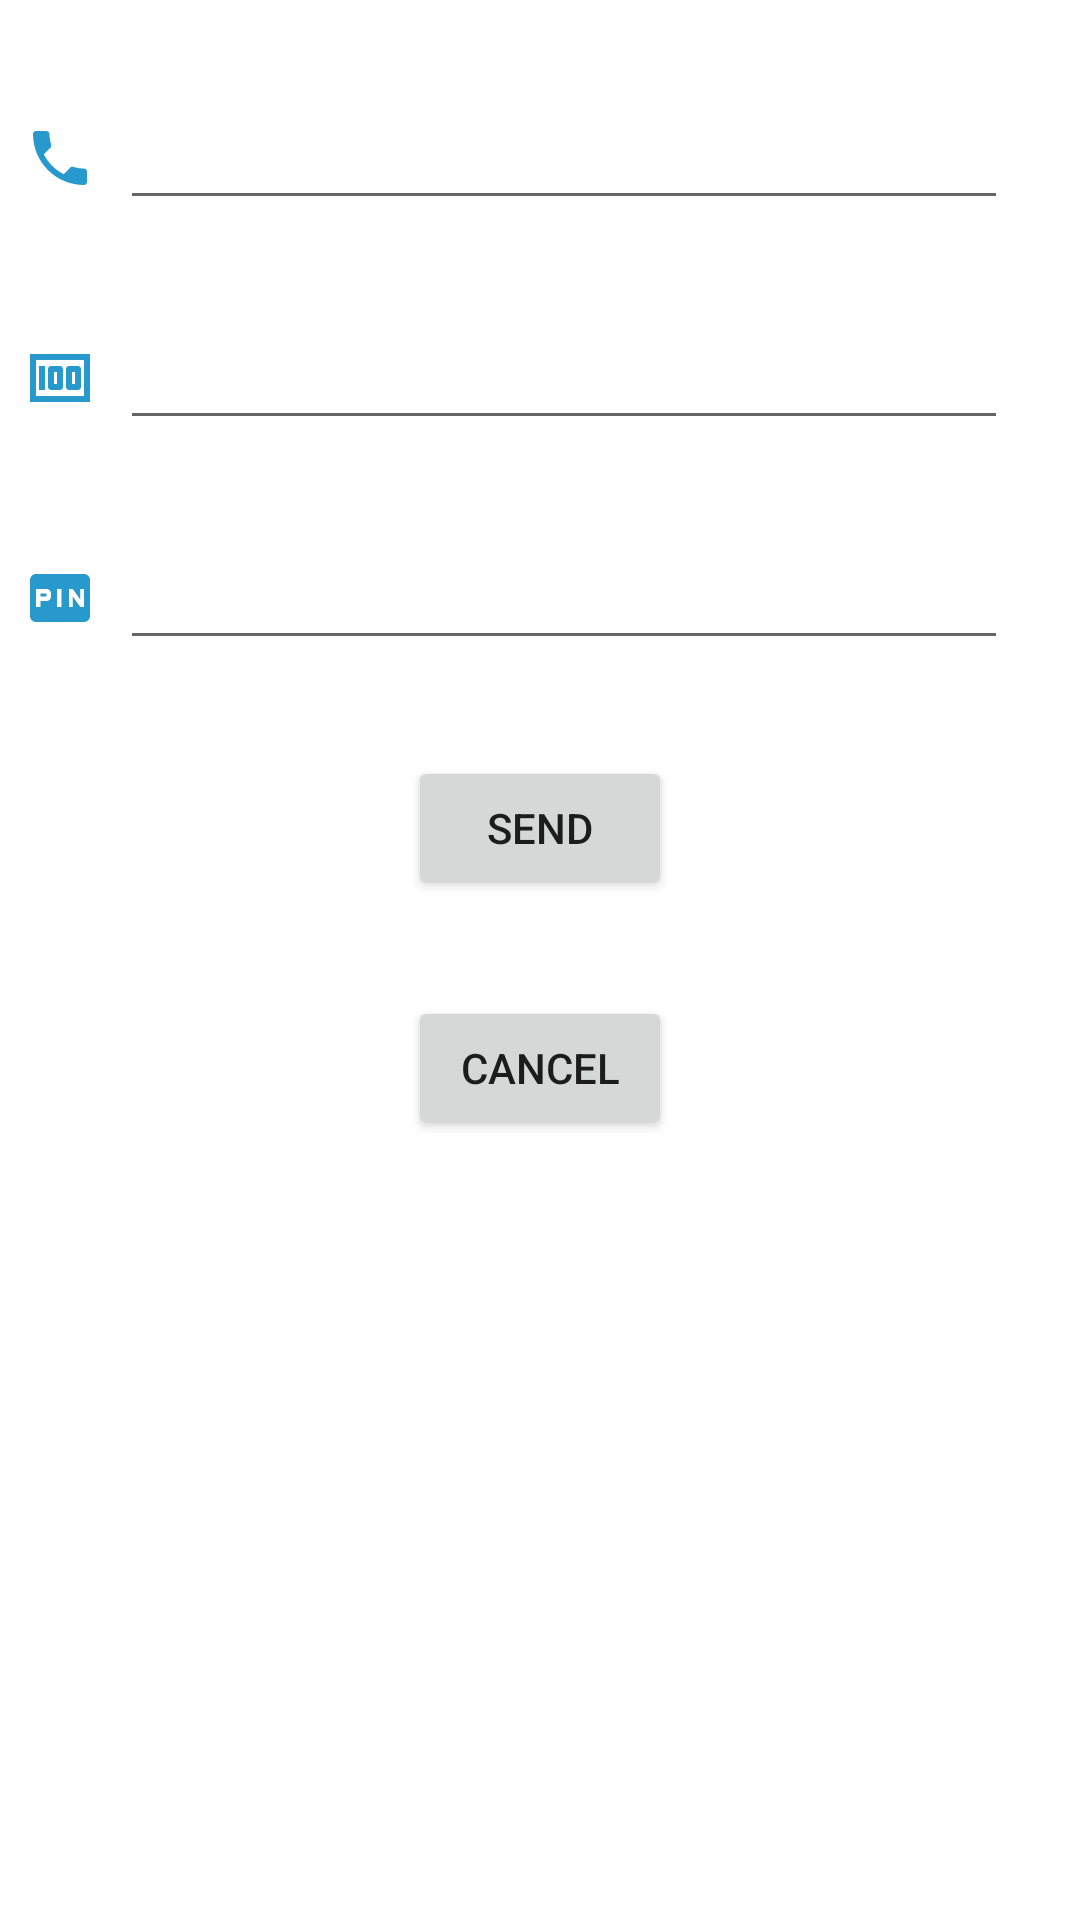

Named icons in this screenshot (1080 × 1920) and their centers, [x,y]:
local phone: [60,158]
money: [60,378]
